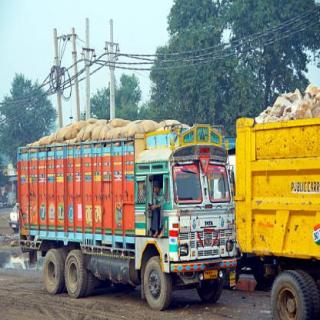Normal_vehicle: (15, 115, 242, 314)
